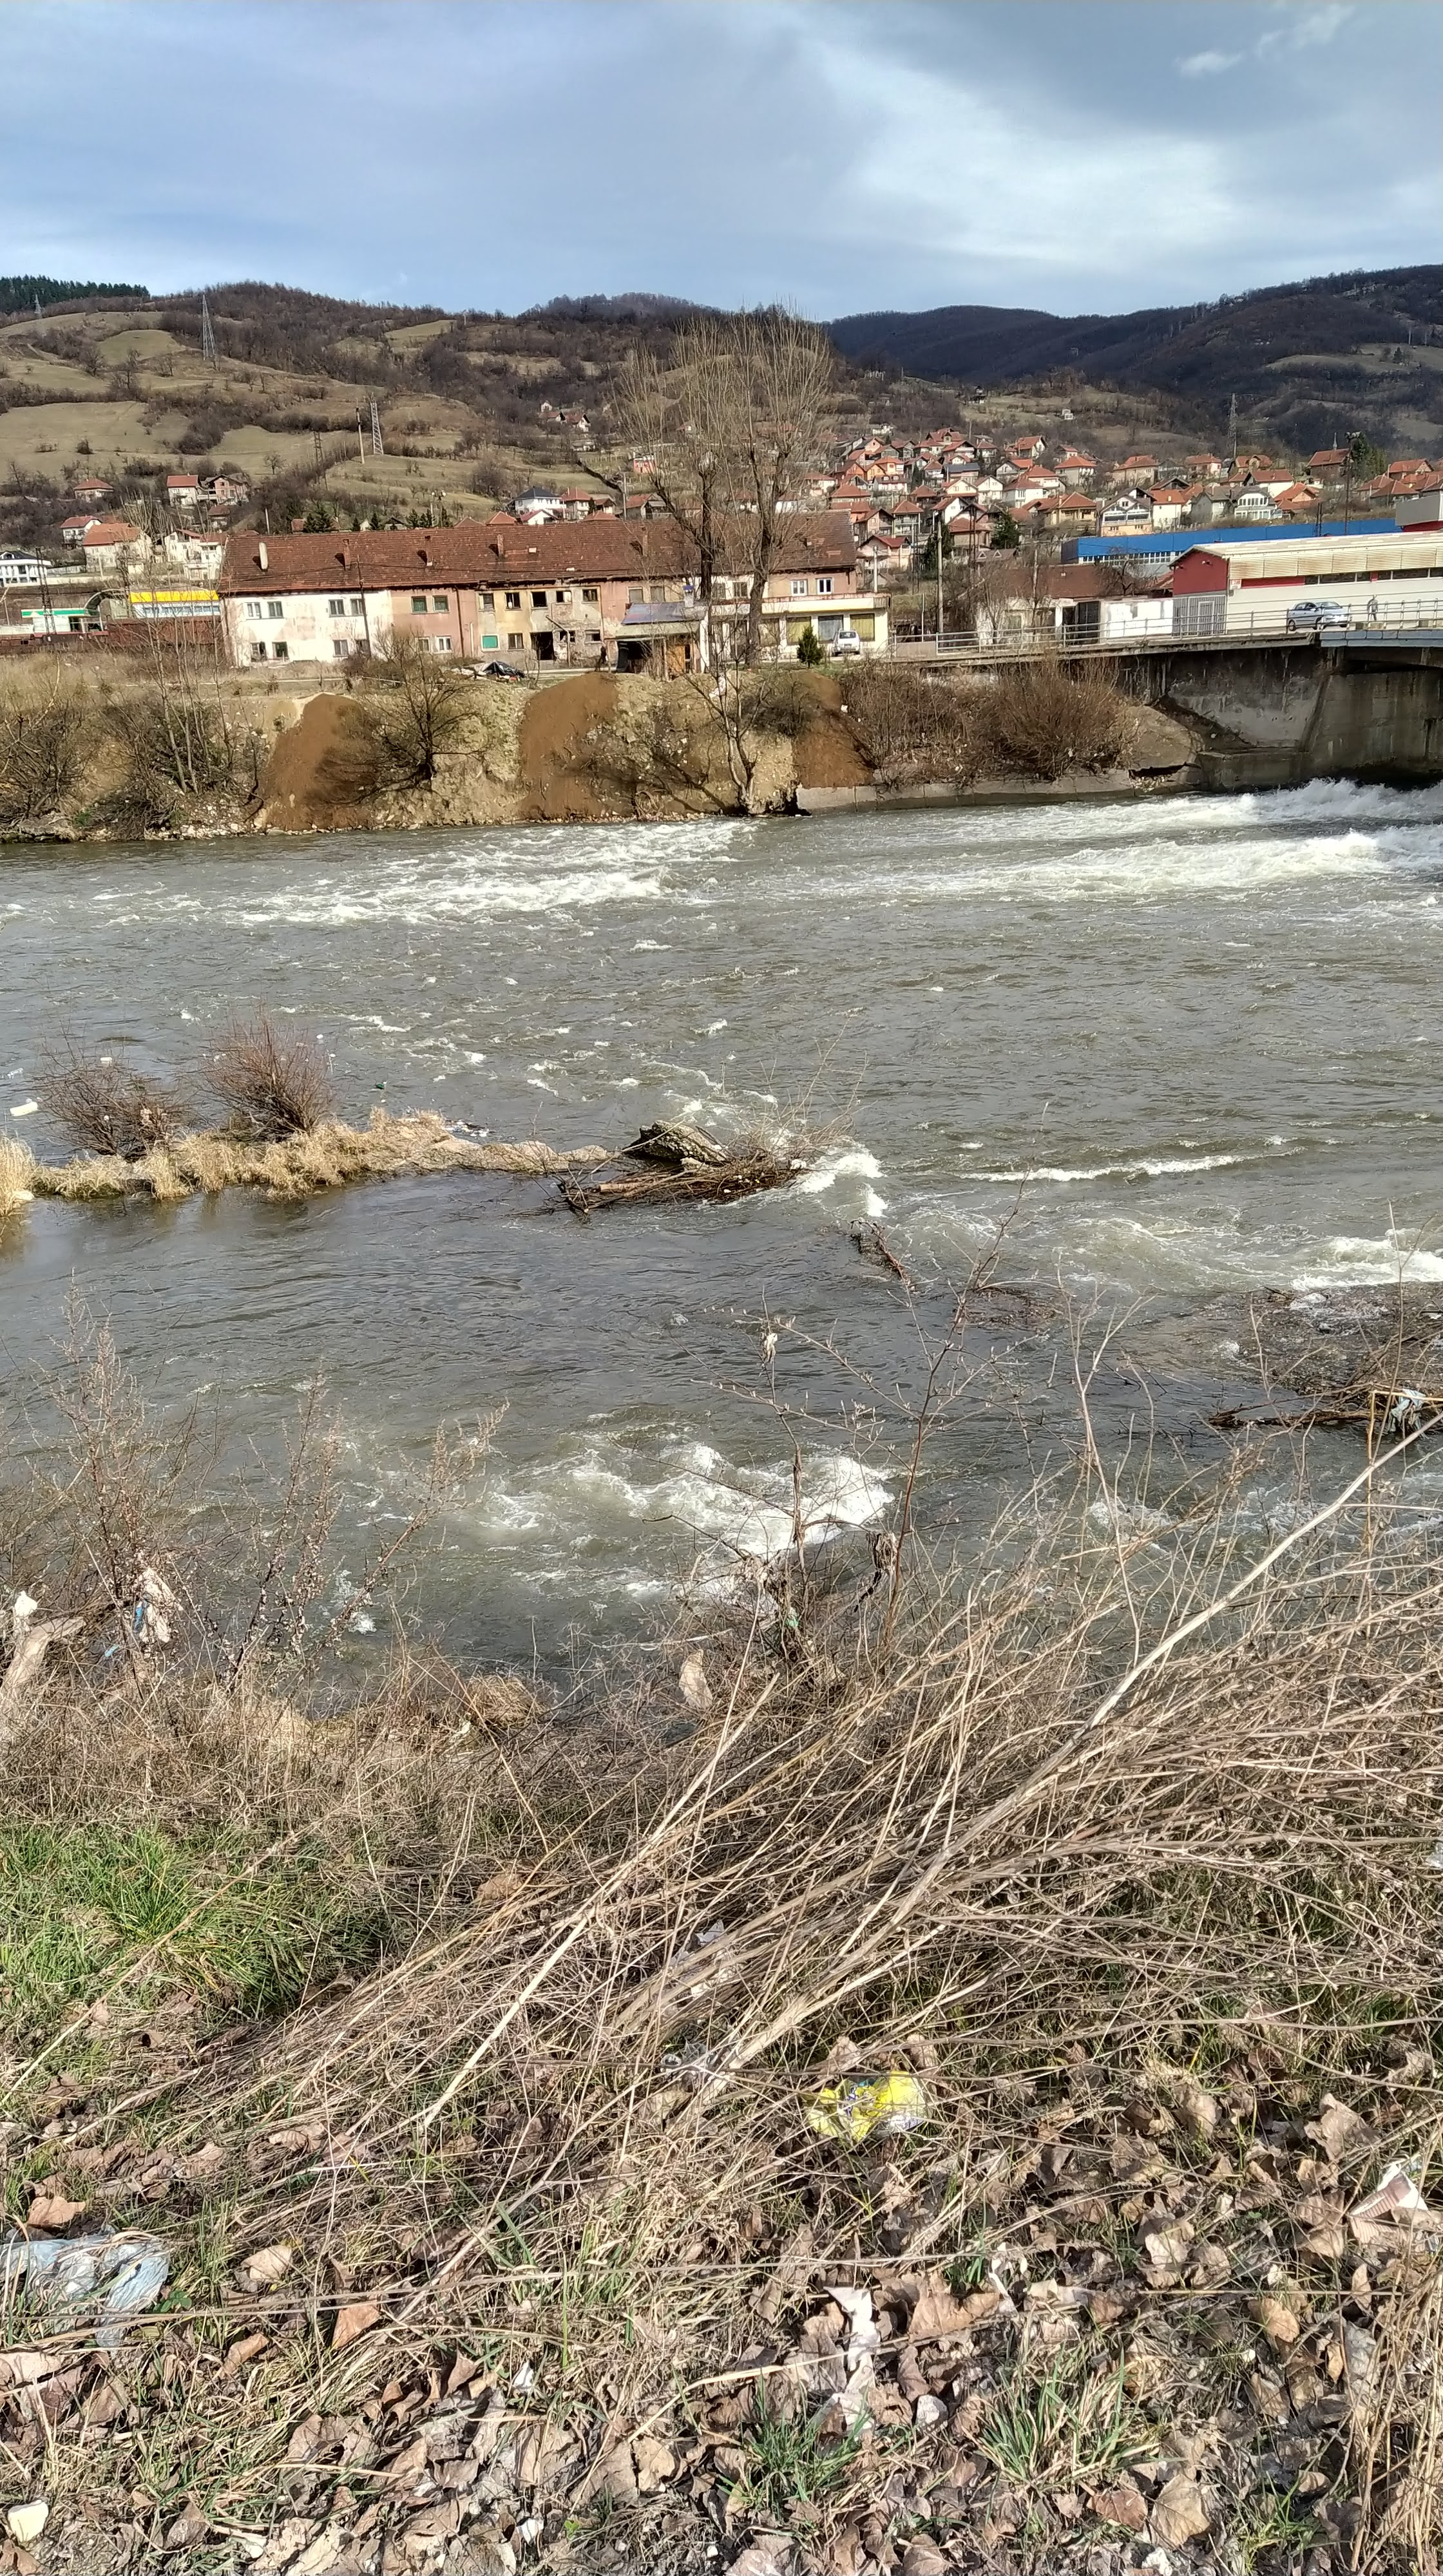Plastic Bottle: (7, 1067, 23, 1076), (99, 1056, 112, 1062), (375, 1081, 382, 1090), (296, 1042, 305, 1047)
